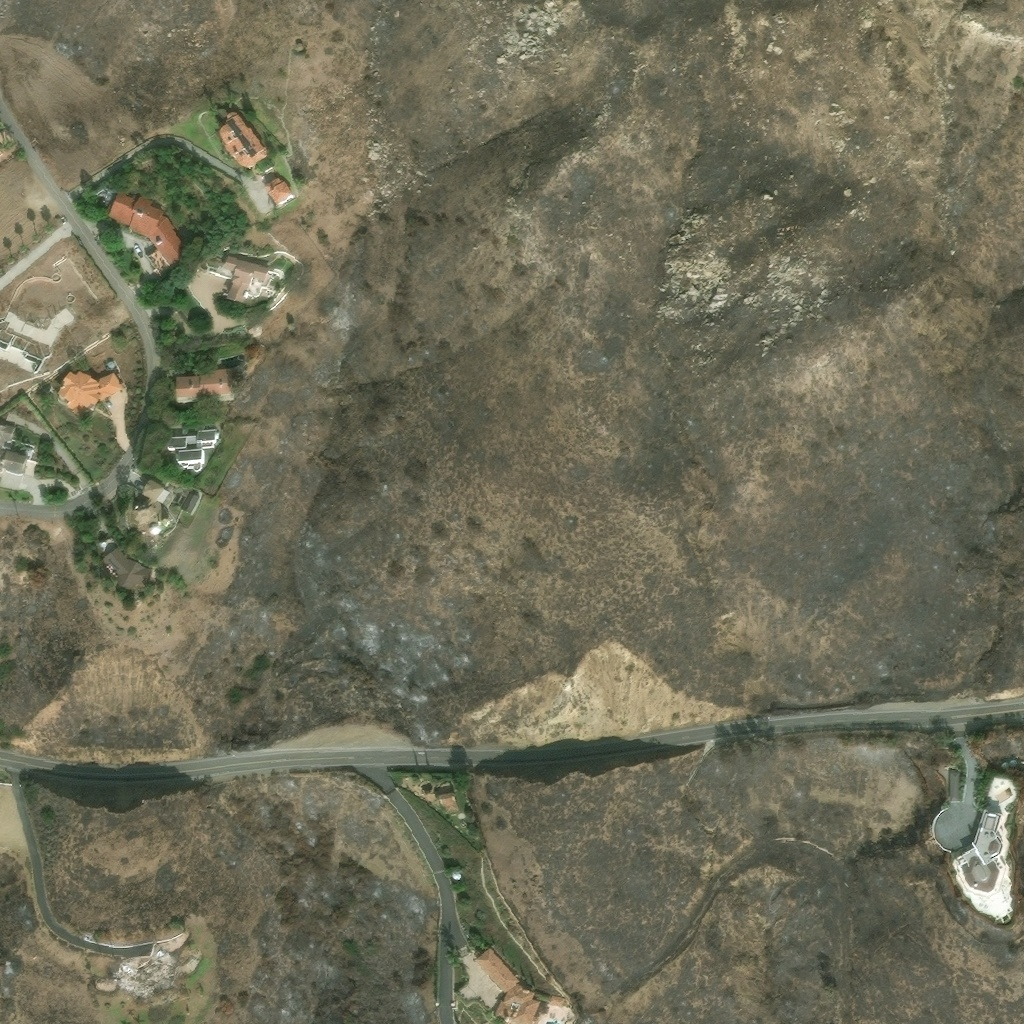0 no-damage: (106, 187, 191, 274), (950, 809, 1012, 903), (473, 947, 541, 1023), (215, 109, 269, 169), (55, 370, 123, 417), (120, 480, 170, 537), (220, 254, 273, 307), (98, 548, 154, 594), (165, 430, 219, 473), (174, 370, 234, 403), (0, 422, 31, 477), (0, 343, 38, 373), (261, 176, 293, 208), (179, 493, 201, 517), (437, 791, 458, 812), (549, 995, 565, 1008), (104, 360, 115, 370), (97, 540, 108, 550), (451, 871, 461, 881), (1009, 761, 1016, 768), (1000, 763, 1008, 768)
3 destroyed: (117, 949, 177, 993), (80, 933, 90, 941)
4 un-classified: (0, 159, 8, 169)
